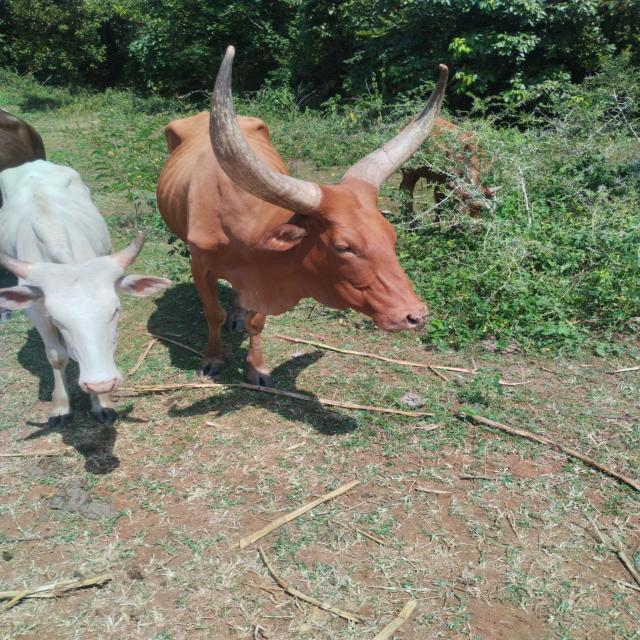Front: (156, 46, 448, 386)
